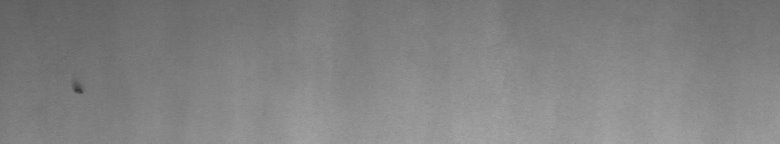fi: (68, 78, 84, 100)
